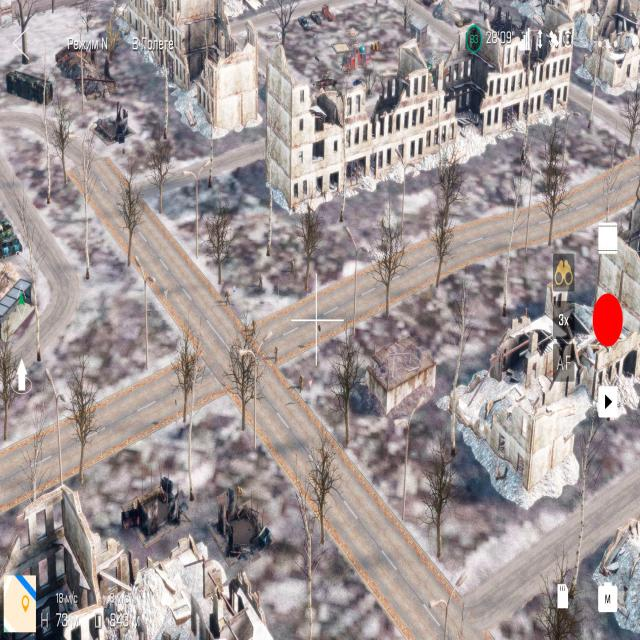fortification: (440, 296, 597, 491), (259, 44, 452, 190), (436, 16, 576, 156), (105, 532, 285, 640), (0, 488, 117, 640), (542, 247, 640, 406), (162, 0, 262, 132), (357, 321, 452, 432), (202, 480, 280, 568), (118, 456, 188, 546), (120, 0, 207, 58), (56, 35, 122, 99), (0, 265, 35, 346), (88, 108, 141, 150)
infantry: (287, 256, 299, 284), (256, 269, 266, 297), (296, 373, 306, 396), (222, 287, 232, 310), (247, 314, 257, 337), (320, 188, 329, 213), (272, 342, 280, 368), (235, 484, 245, 503), (290, 200, 298, 220)
vehicle: (2, 62, 53, 112), (0, 215, 29, 259)
